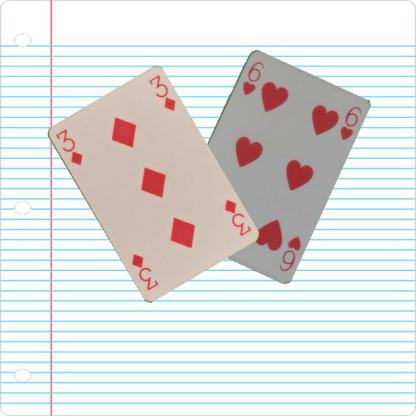3d: (221, 196, 252, 237), (53, 126, 83, 167)
6h: (276, 233, 302, 273), (239, 58, 265, 96)
